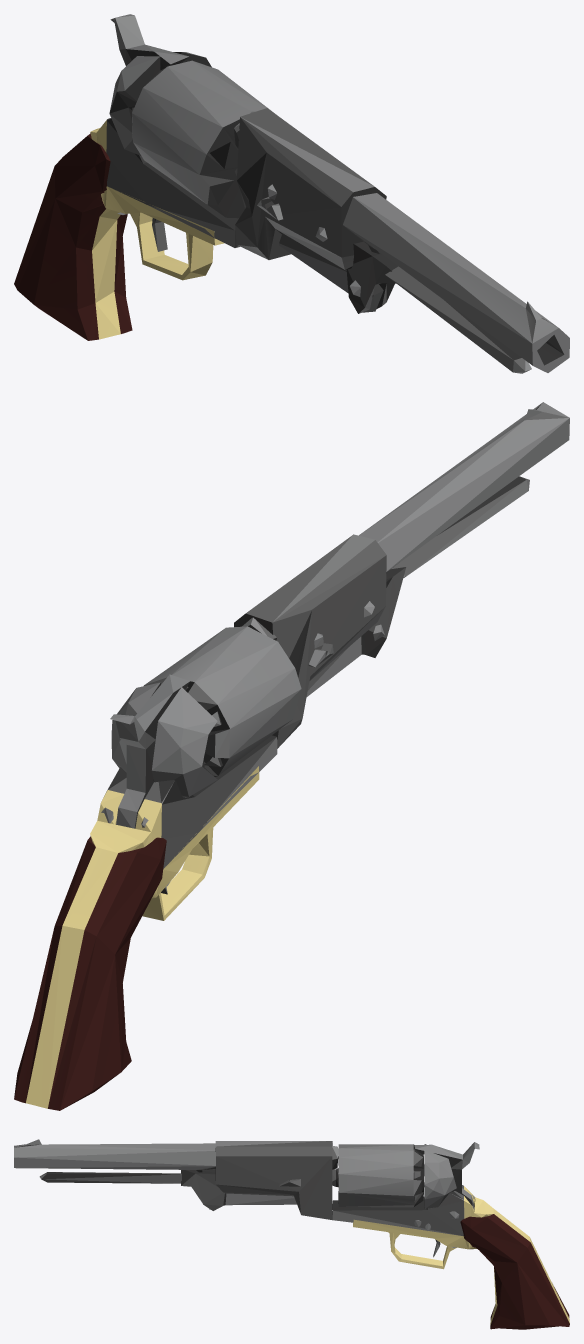
Rendered from Revolver_LowPoly.fbx.
3 views of the same model, one above another, from view 1: azimuth 30°, elevation 25°; view 2: azimuth 150°, elevation 25°; view 3: azimuth 270°, elevation 25° (orthographic). The views are drawn at different scales.
Visible parts, largest first — view 1: Revolver_LowPoly; view 2: Revolver_LowPoly; view 3: Revolver_LowPoly.
Part boxes in pixels (<box>): Revolver_LowPoly: <box>14,14,569,373</box>; Revolver_LowPoly: <box>14,402,569,1110</box>; Revolver_LowPoly: <box>14,1139,569,1329</box>.
Size of the model in its own units: 0.045 by 0.1428 by 0.3891.
